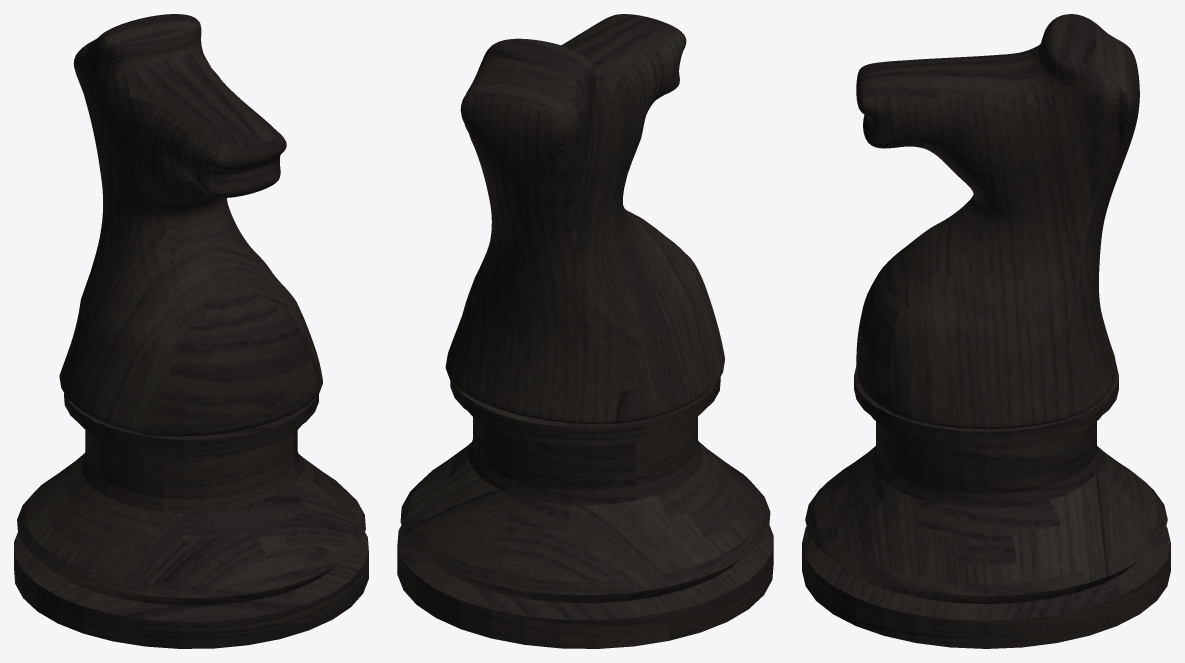
File: knight.obj
The picture shows the model from 3 angles, left to right: view 1: azimuth 30°, elevation 25°; view 2: azimuth 150°, elevation 25°; view 3: azimuth 270°, elevation 25°; orthographic projection. The views are drawn at different scales.
Visible parts, largest first — view 1: knight_Cube; view 2: knight_Cube; view 3: knight_Cube.
Part boxes in pixels (left/top/right/bottom): knight_Cube: left=14, top=14, right=368, bottom=648; knight_Cube: left=397, top=14, right=773, bottom=648; knight_Cube: left=802, top=14, right=1170, bottom=648.
Size of the model in its own units: 2 by 3.24 by 2.
Materials: 1 (1 with a texture image).
